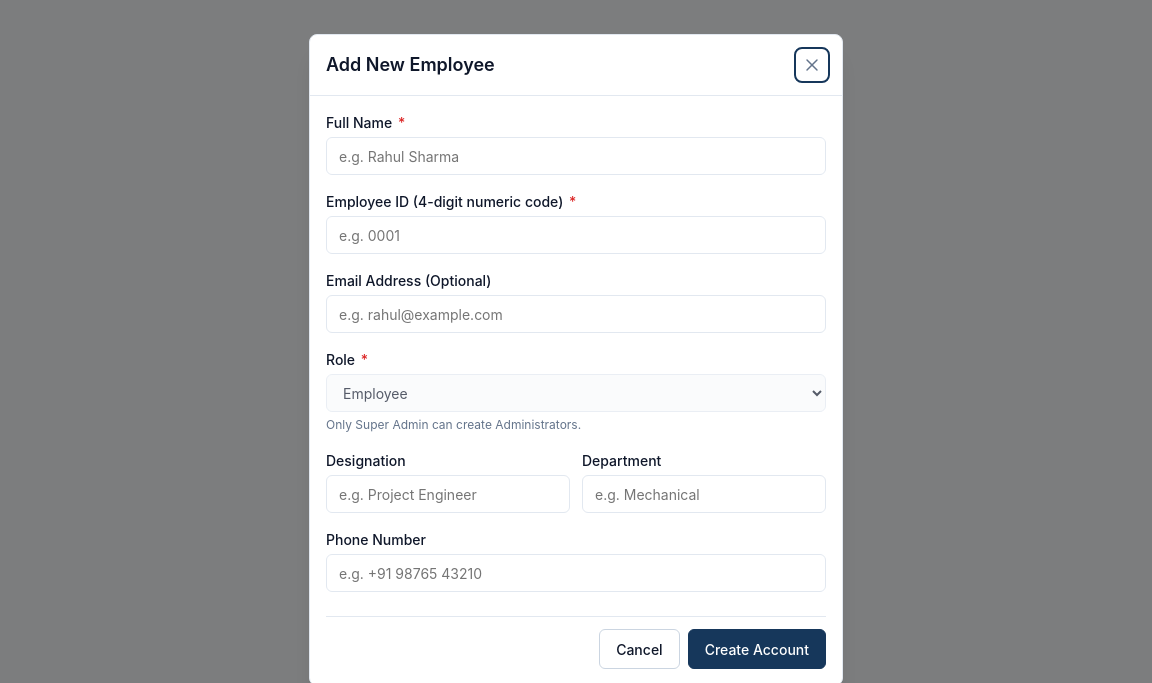
CreateEmployeeModal › displays error message on submission failure
Type "Duplicate User" into the field with test id "create-emp-name-input". click: {"x": 576, "y": 156}
box: [326,137,826,175]
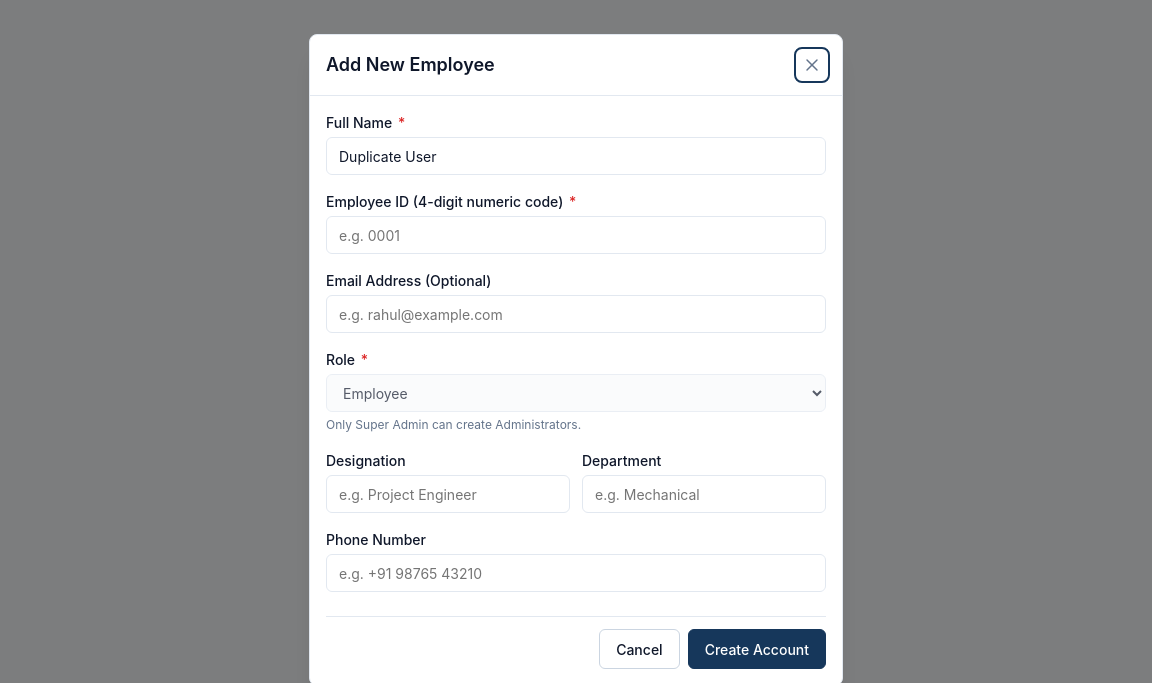
Type "0015" into the field with test id "create-emp-code-input". click: {"x": 576, "y": 235}
box: [326,216,826,254]
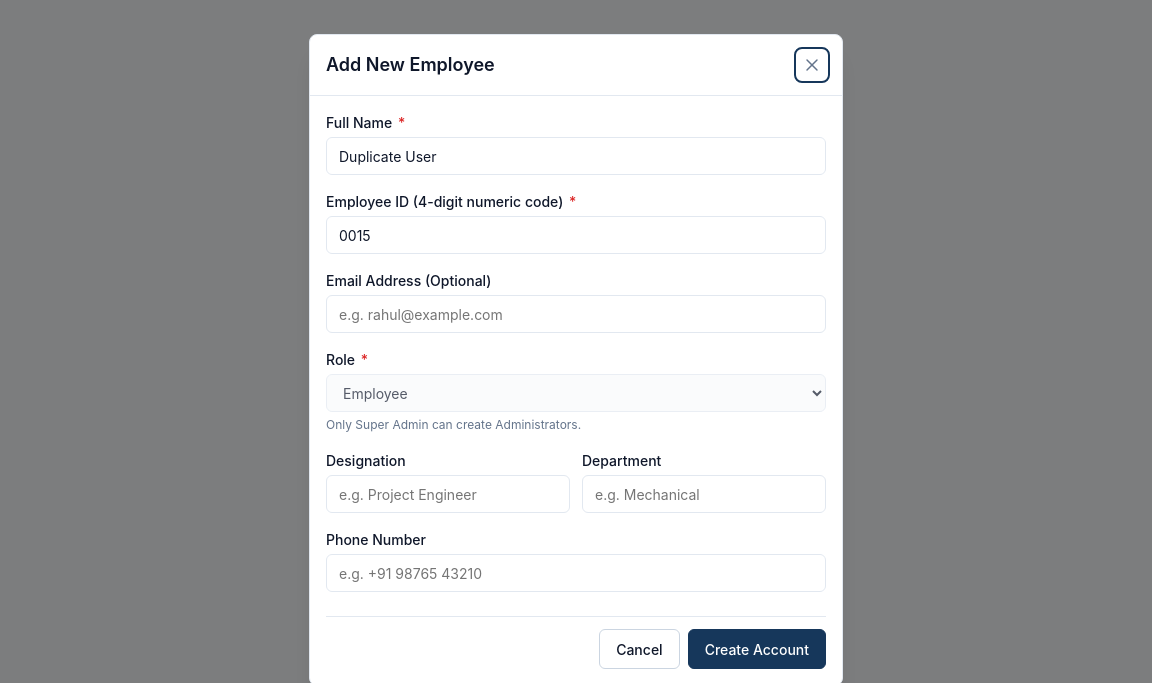
Type "existing@example.com" into the field with test id "create-emp-email-input". click: {"x": 576, "y": 314}
box: [326,295,826,333]
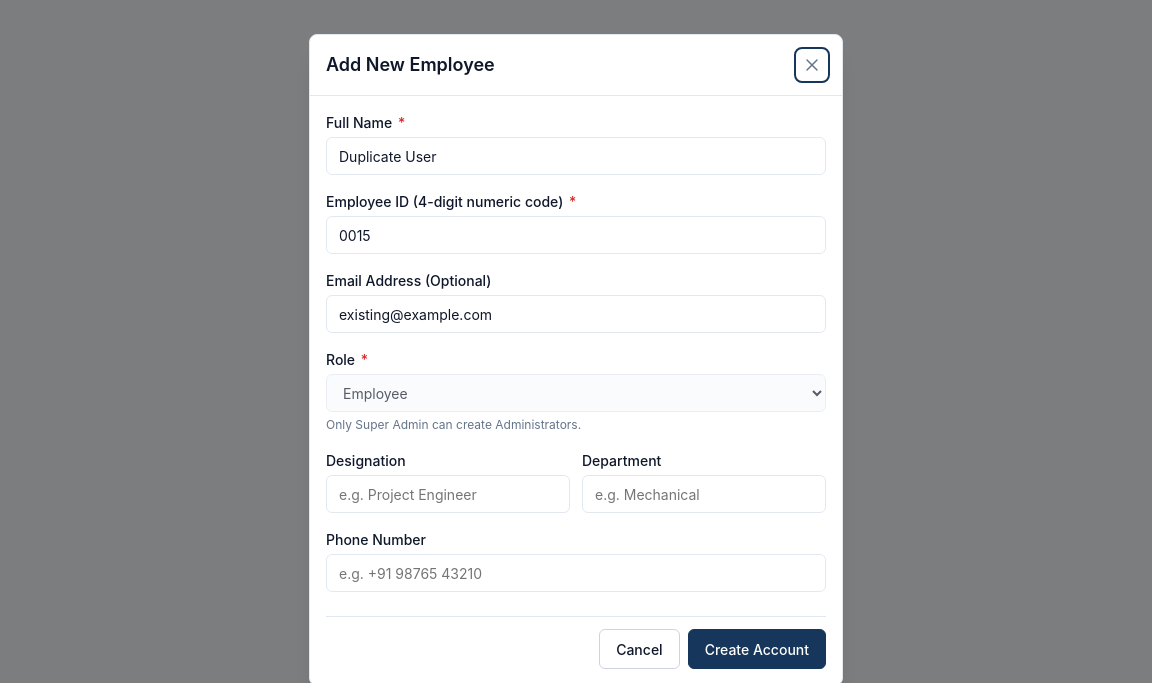
Click the button with test id "create-emp-submit-btn". click: {"x": 757, "y": 649}
box: [688,629,826,669]
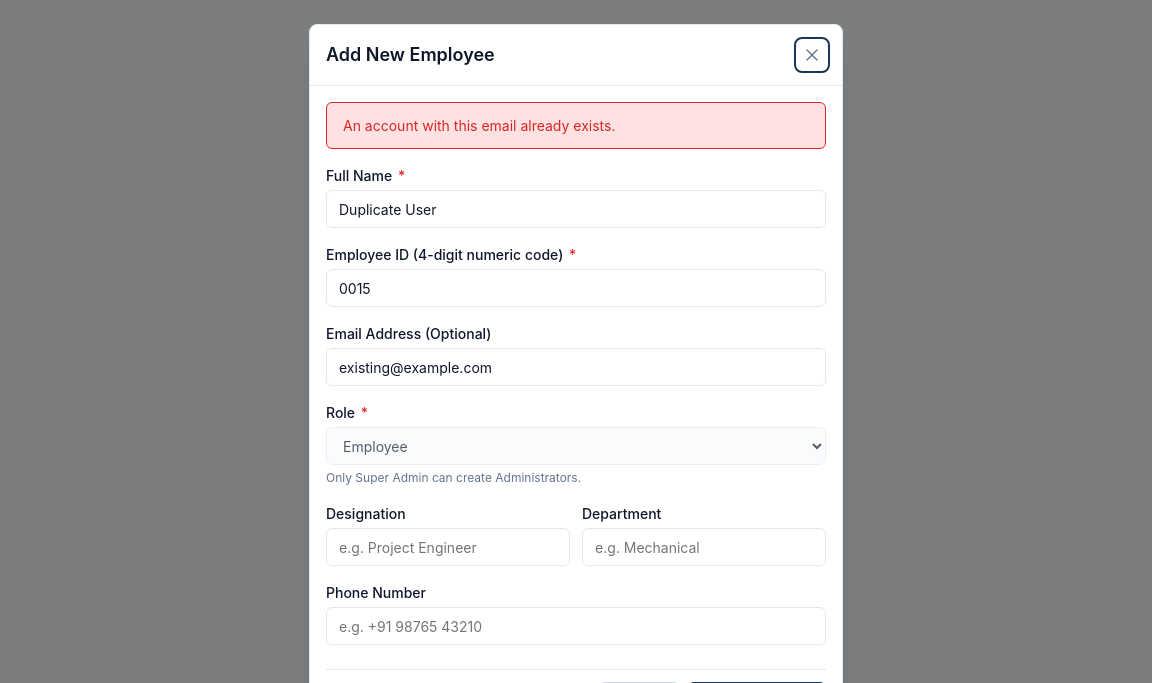
Now the message with test id "create-employee-error" reads "An account with this email already exists.", box [343,117,616,134]
